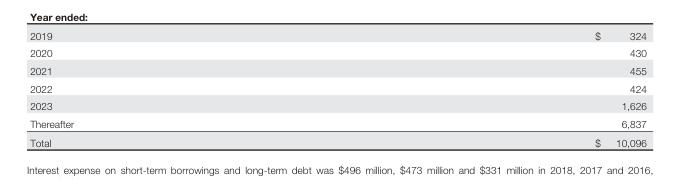table: (29, 28, 645, 148)
table column: (333, 28, 645, 148), (29, 28, 333, 148)
table row: (29, 43, 645, 61), (29, 78, 645, 96), (29, 96, 645, 114), (29, 114, 645, 132), (29, 61, 645, 78), (29, 132, 645, 148), (29, 28, 645, 43)
